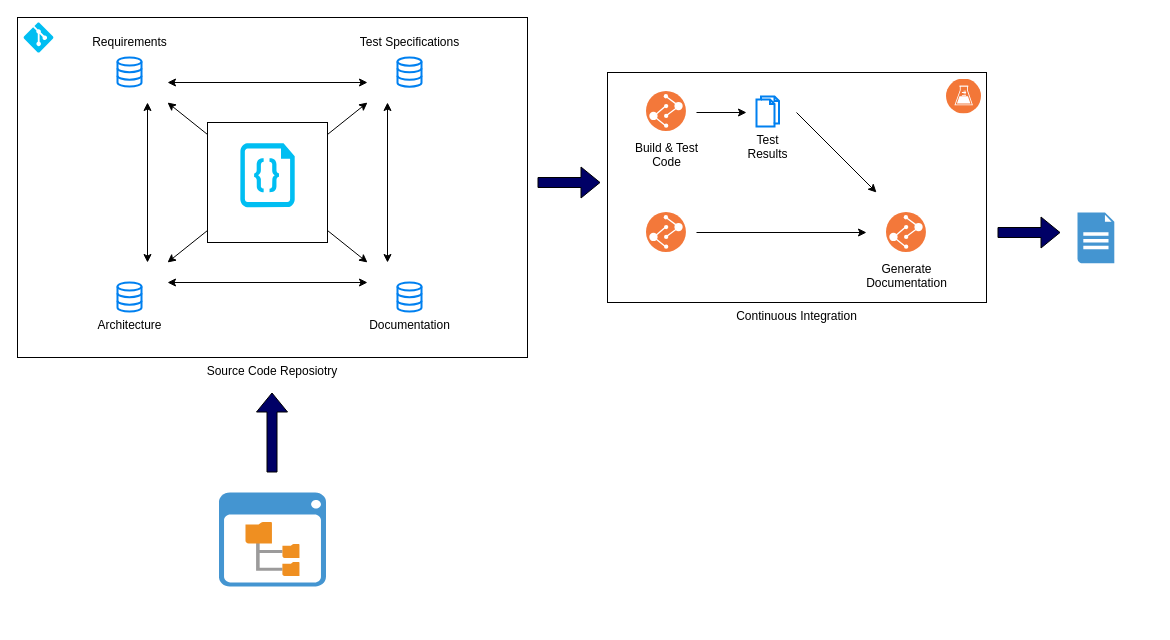
The diagram is 1170 pixels wide and 640 high, and some of its shapes have lost their labels. The centre of each missing label's shape, as x and y in pixels:
"Check Consistency" goes at point (666, 232).
"Implementation" goes at point (267, 175).
"Systems Engineering Documentation" goes at point (1095, 237).
"Systems Engineering WebUI" goes at point (272, 539).
